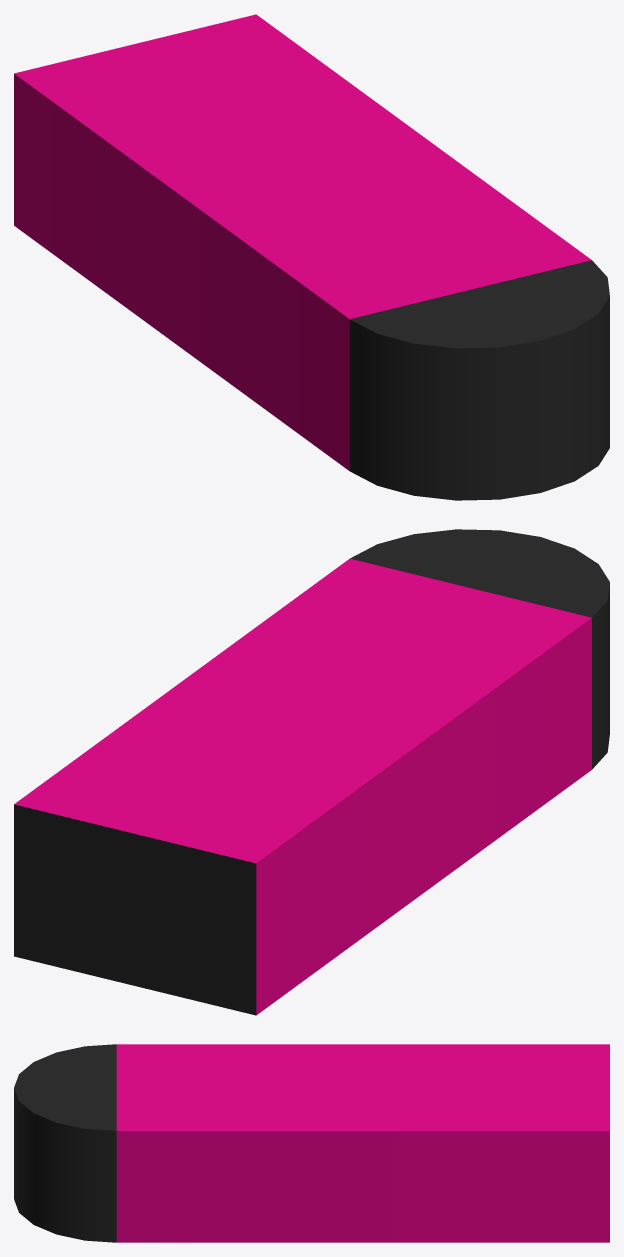
Rendered from boss_02.glb.
3 views of the same model, one above another, from view 1: azimuth 30°, elevation 25°; view 2: azimuth 150°, elevation 25°; view 3: azimuth 270°, elevation 25° (orthographic). The views are drawn at different scales.
Visible parts, largest first — view 1: obj3; view 2: obj3; view 3: obj3.
Boxes of the visible parts, x1,y1,x2,y2 form: obj3: (14, 14, 609, 500); obj3: (14, 529, 609, 1015); obj3: (14, 1044, 609, 1242).
Bounding box in the file's own units: 2.5 × 1.5 × 7.25.
Materials: 1 (1 with a texture image).
